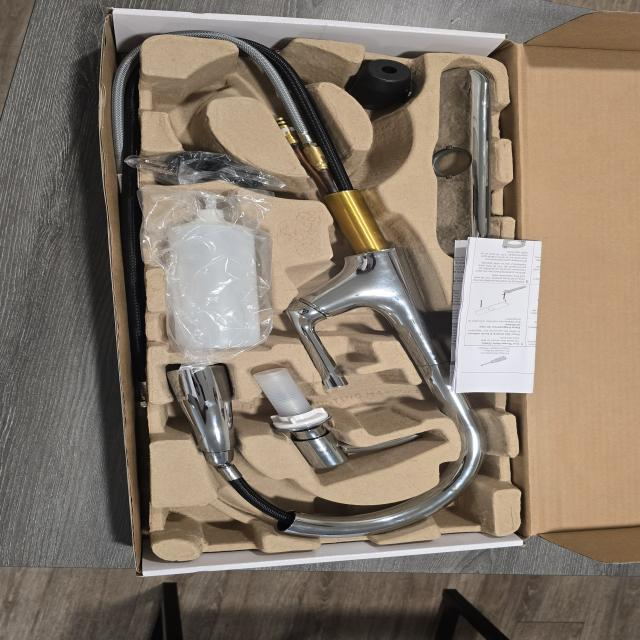1: (164, 40, 490, 536)
2: (256, 367, 424, 472)
3: (167, 194, 264, 352)
4: (429, 66, 491, 257)
5: (347, 57, 415, 111)
6m: (172, 65, 240, 119)
7: (133, 148, 292, 192)
8: (455, 239, 543, 393)
